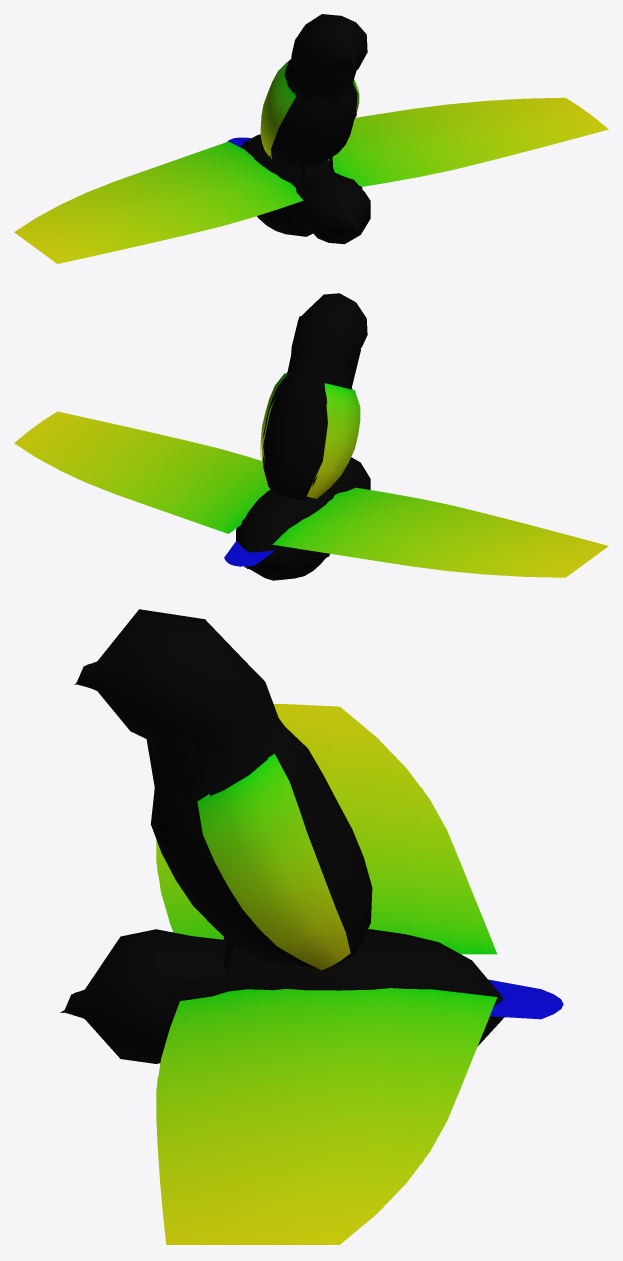
Rendered from owl.glb.
3 views of the same model, one above another, from view 1: azimuth 30°, elevation 25°; view 2: azimuth 150°, elevation 25°; view 3: azimuth 270°, elevation 25° (orthographic). The views are drawn at different scales.
Parts seen in each view (by area): view 1: fly0, stand0, stand1, fly1; view 2: fly0, stand0, stand1, fly1; view 3: fly0, stand0, stand1, fly1.
Boxes of the visible parts, <box> form: fly0: <box>14,97,608,263</box>; stand0: <box>260,14,367,190</box>; stand1: <box>270,35,357,178</box>; fly1: <box>17,103,461,262</box>; fly0: <box>14,411,608,580</box>; stand0: <box>260,293,367,500</box>; stand1: <box>262,316,360,500</box>; fly1: <box>79,451,606,575</box>; fly0: <box>63,704,563,1244</box>; stand0: <box>76,609,372,984</box>; stand1: <box>74,662,360,969</box>; fly1: <box>62,787,502,1244</box>.
Size of the model in its own units: 0.55 by 0.232 by 0.2177.
